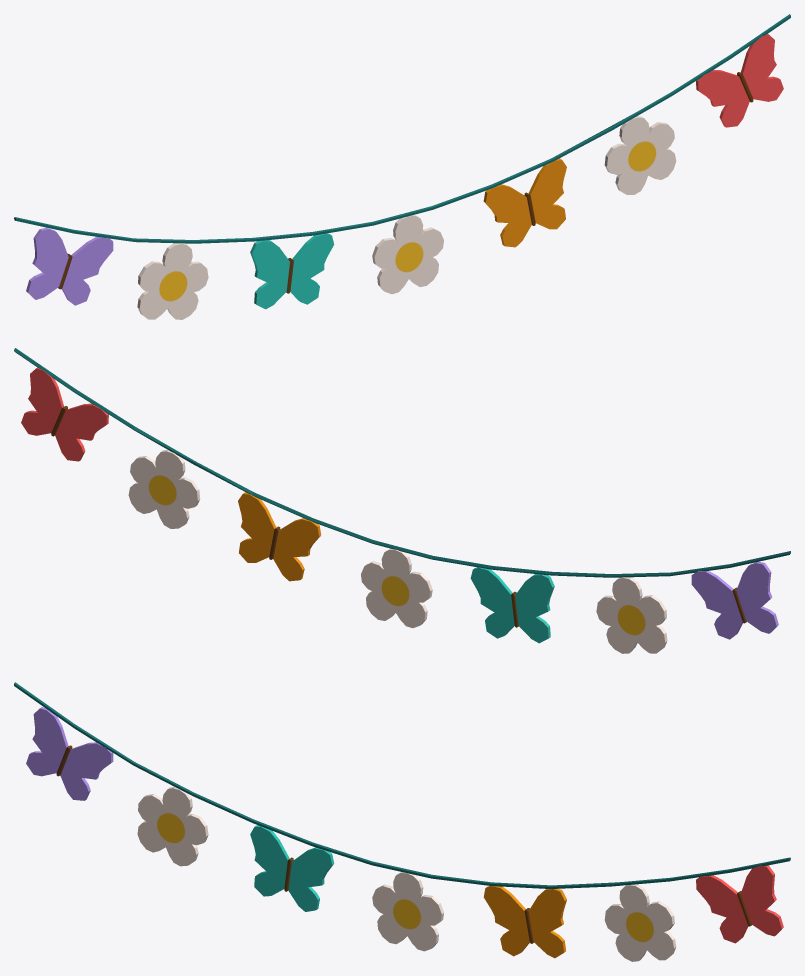
The model's file is ButterflyFlowerBanner02.fbx.
3 renders of one model, top to bottom at view 1: azimuth 30°, elevation 25°; view 2: azimuth 150°, elevation 25°; view 3: azimuth 330°, elevation 25°, orthographic.
Visible parts, largest first — view 1: Cube.083, Cube.085, Cube.087, Cube.089, Cube.084, Cube.086, Cube.088, Cylinder.070; view 2: Cube.083, Cube.085, Cube.087, Cube.089, Cube.084, Cube.086, Cube.088, Cylinder.070; view 3: Cube.085, Cube.083, Cube.087, Cube.089, Cube.088, Cube.084, Cube.086, Cylinder.070.
Part boxes in pixels (left/top/right/bottom): Cube.083: left=26, top=227, right=113, bottom=305; Cube.085: left=250, top=233, right=334, bottom=309; Cube.087: left=483, top=158, right=566, bottom=247; Cube.089: left=696, top=34, right=783, bottom=127; Cube.084: left=137, top=243, right=208, bottom=319; Cube.086: left=372, top=215, right=443, bottom=294; Cube.088: left=604, top=116, right=676, bottom=194; Cylinder.070: left=14, top=14, right=790, bottom=243; Cube.083: left=691, top=561, right=778, bottom=639; Cube.085: left=470, top=567, right=554, bottom=643; Cube.087: left=238, top=492, right=321, bottom=581; Cube.089: left=21, top=367, right=108, bottom=461; Cube.084: left=596, top=577, right=667, bottom=653; Cube.086: left=361, top=549, right=432, bottom=628; Cube.088: left=128, top=450, right=200, bottom=528; Cylinder.070: left=14, top=348, right=790, bottom=577; Cube.085: left=250, top=825, right=334, bottom=911; Cube.083: left=26, top=707, right=113, bottom=800; Cube.087: left=483, top=886, right=566, bottom=958; Cube.089: left=696, top=865, right=783, bottom=943; Cube.088: left=604, top=884, right=676, bottom=961; Cube.084: left=137, top=787, right=208, bottom=866; Cube.086: left=372, top=872, right=443, bottom=951; Cylinder.070: left=14, top=682, right=790, bottom=888.
Bounding box in the file's own units: 2481 × 556 × 16.95.
